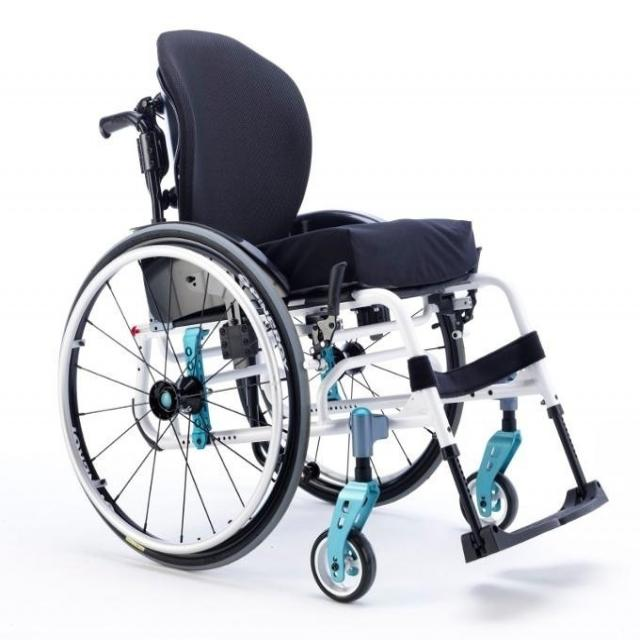wheelchair: (48, 22, 620, 602)
